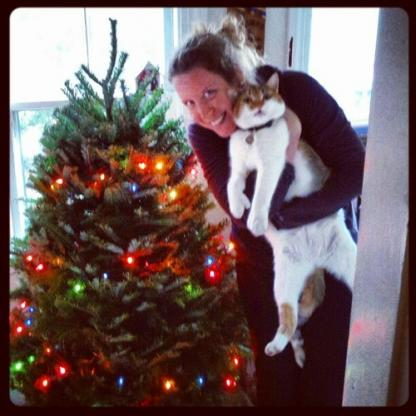Target: (224, 88, 362, 358)
